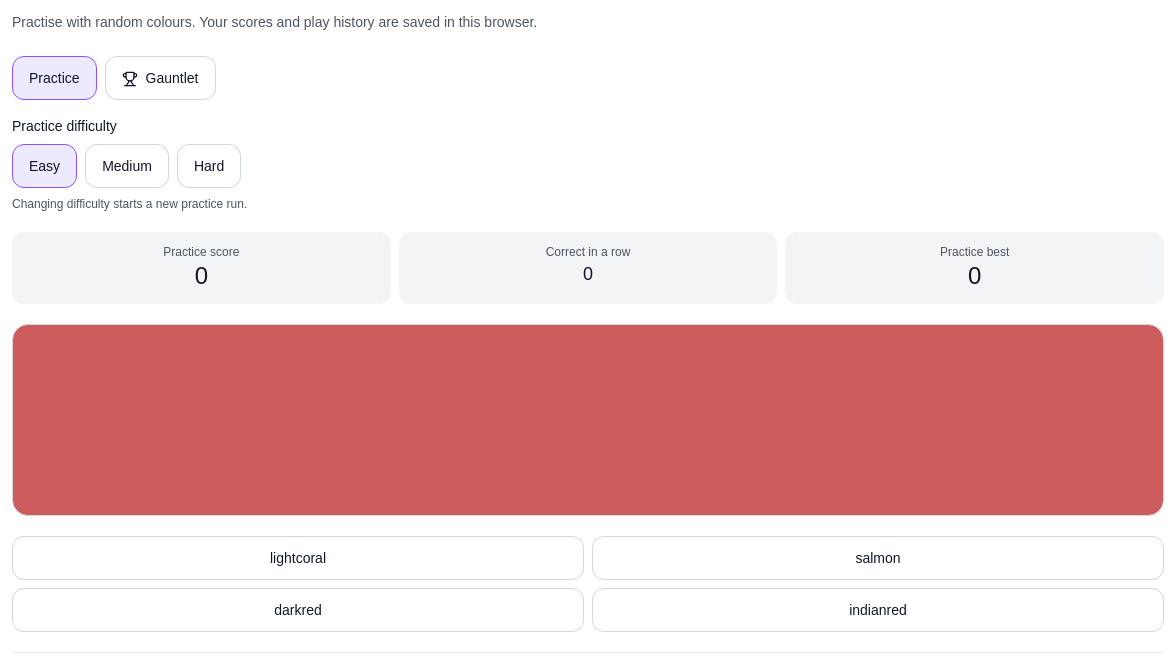
Test: actual play survives blocked persistence
The width and height of the screenshot is (1176, 668).
Click the button "indianred": [878, 610] box x1=592 y1=588 x2=1164 y2=632
(page scrolled)
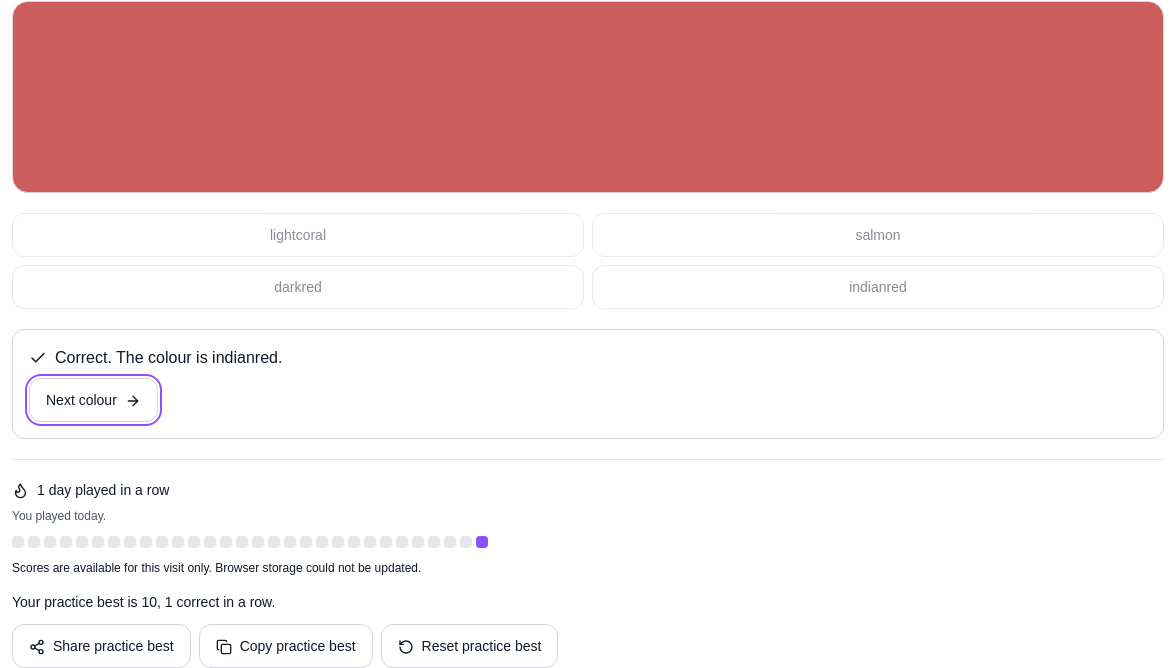
Result: the text "Scores are available for this visit only" is shown at x1=12 y1=561 x2=421 y2=575
Click the button "Next colour": [93, 400] box x1=29 y1=378 x2=158 y2=422
(page scrolled)
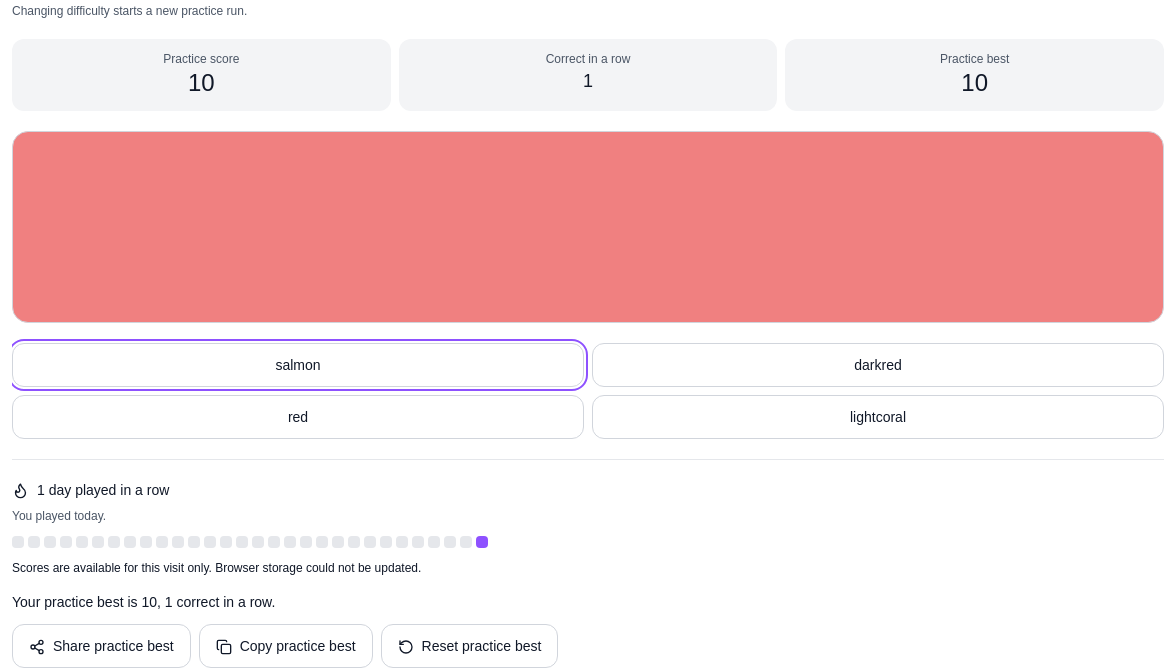
Result: the button "Next colour" is gone
